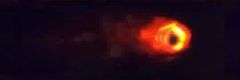keyhole: (167, 33, 181, 47)
